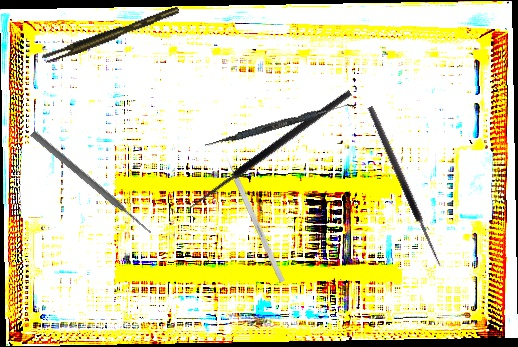Hook Surgical: (184, 88, 359, 222), (366, 102, 452, 268), (222, 152, 286, 284)
Pusher: (28, 129, 155, 237)
Spatula Surgical: (204, 97, 356, 152)
Tissue Forceps: (39, 6, 183, 65)
